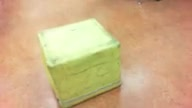cube: (37, 17, 122, 108)
